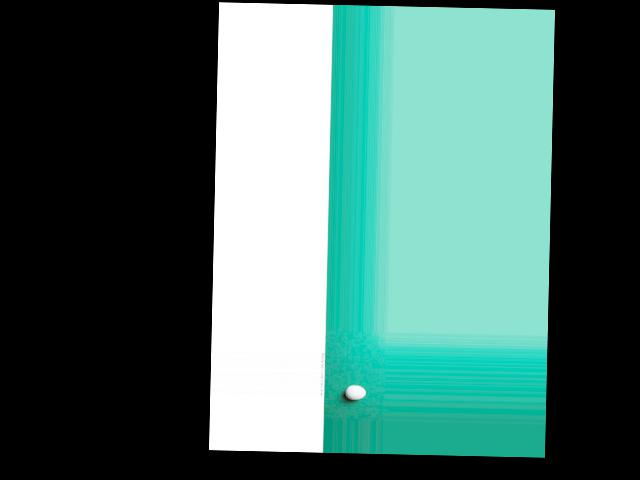egg: (344, 384, 365, 399)
